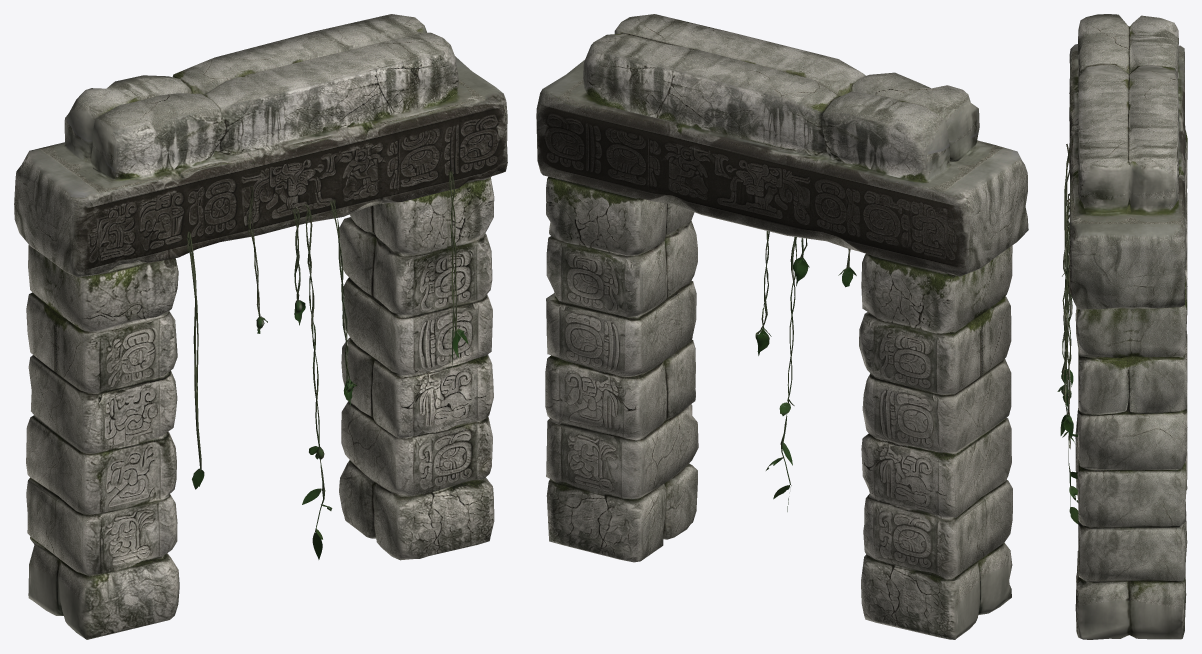
The model's file is gate_realistic.glb.
The picture shows the model from 3 angles, left to right: view 1: azimuth 30°, elevation 25°; view 2: azimuth 150°, elevation 25°; view 3: azimuth 270°, elevation 25°; orthographic projection. The views are drawn at different scales.
Size of the model in its own units: 0.8657 by 0.9526 by 0.2437.
Materials: 1 (1 with a texture image).
